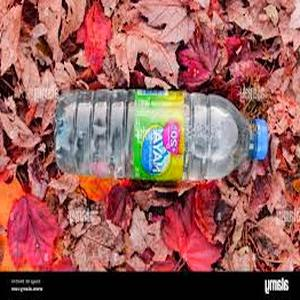Plastic: (50, 90, 273, 186)
